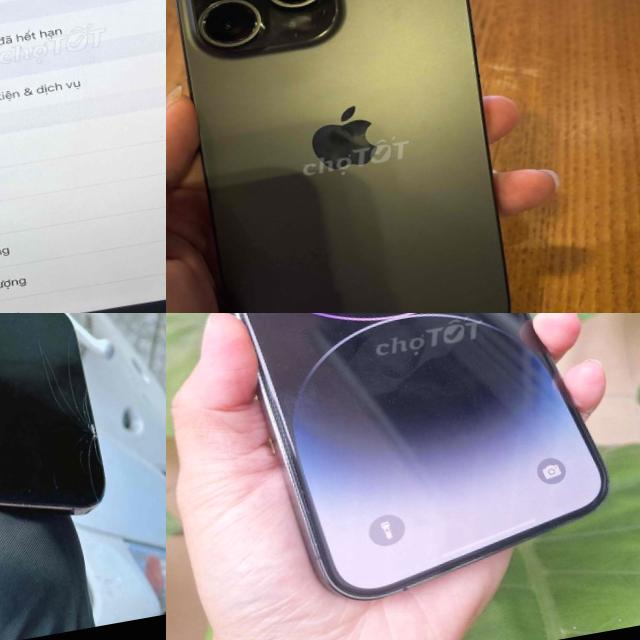gen_12_13: (0, 0, 166, 313), (0, 313, 114, 587)
gen_14: (178, 313, 640, 624)
gen_15: (166, 0, 537, 313)
scratch: (177, 0, 341, 58)
screen_defect: (32, 335, 112, 518)
